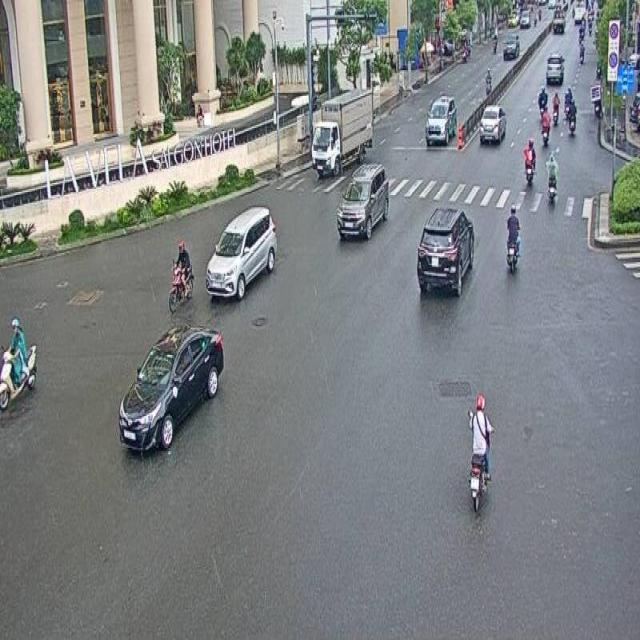car: (119, 326, 229, 457), (204, 204, 278, 297), (416, 202, 475, 298), (336, 163, 390, 244)
motorcycle: (1, 318, 37, 412), (467, 388, 492, 516), (506, 202, 520, 272)
truck: (310, 87, 373, 175)
